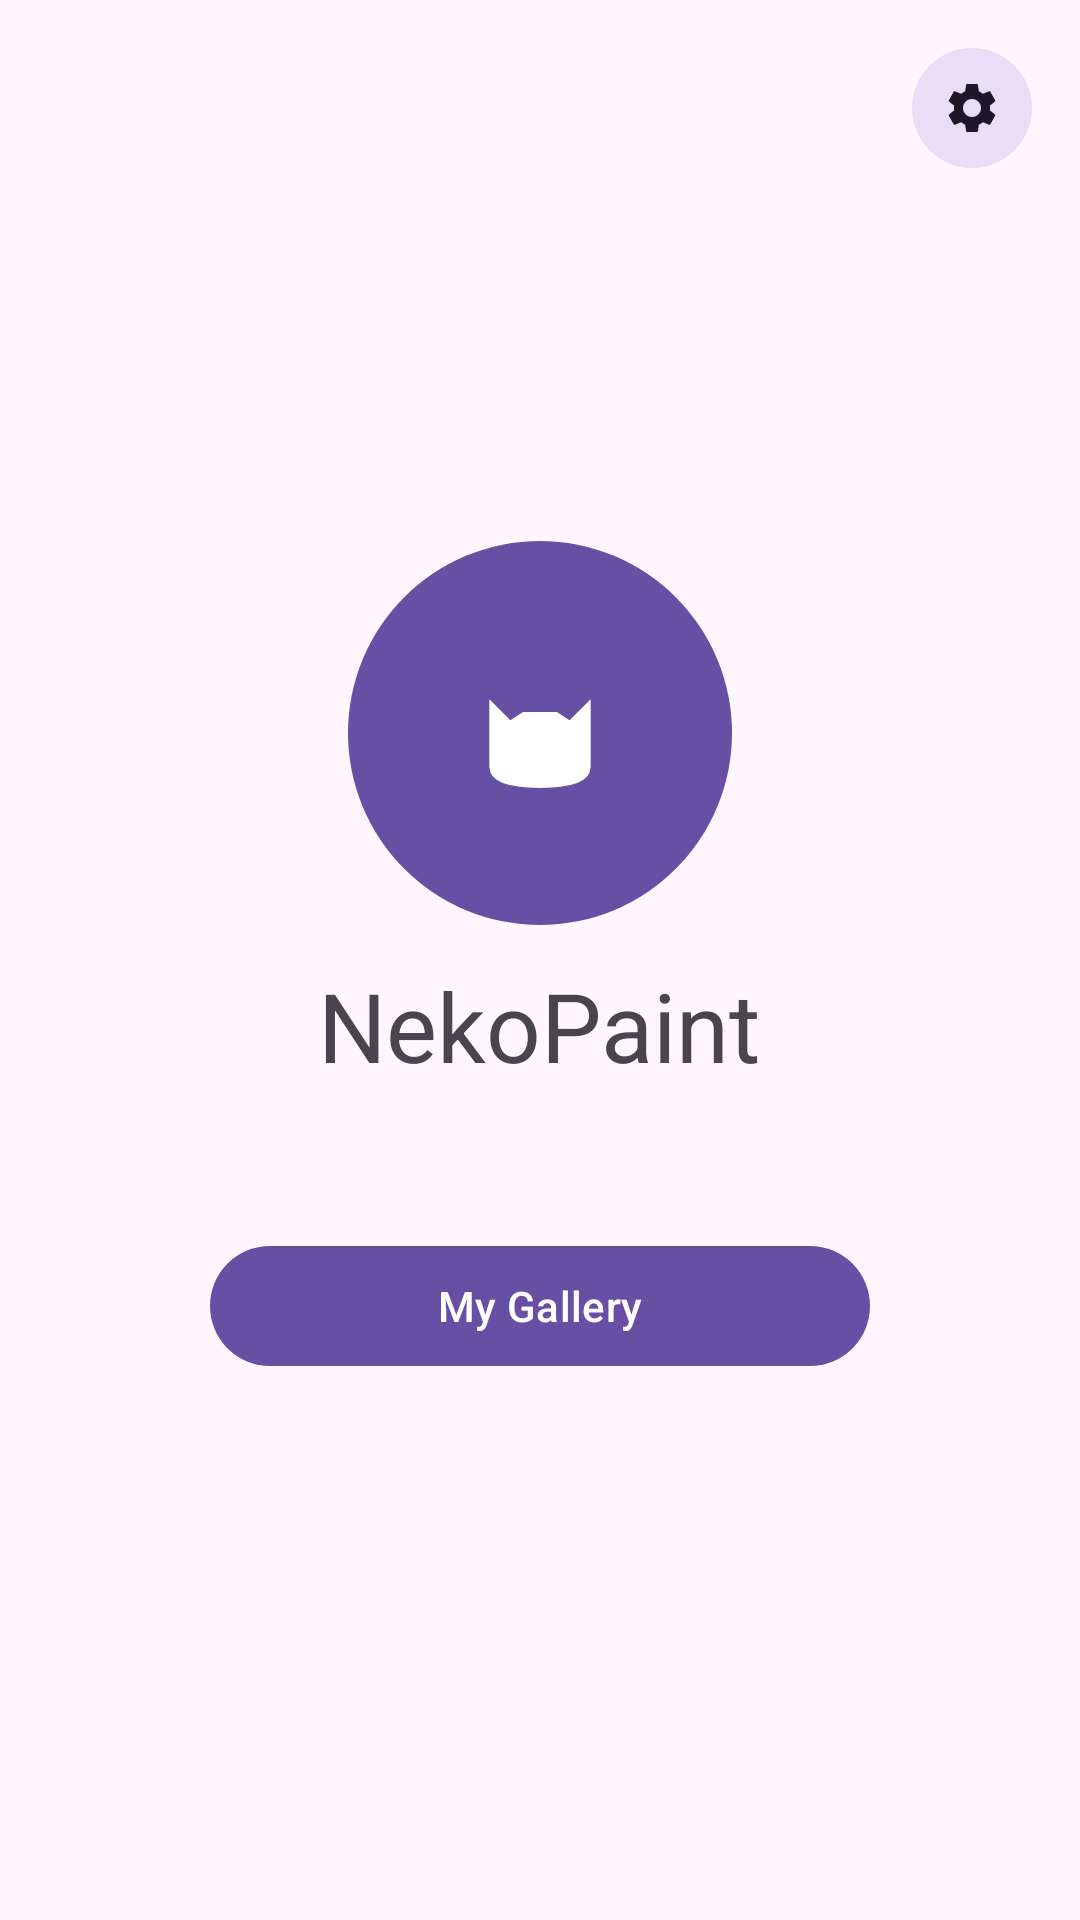

Icon click points for this 1080x1920 phone screenshot, format (x=x, y=y):
Settings: (x=972, y=108)
